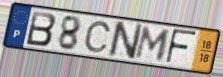8: (57, 14, 84, 52)
B: (25, 9, 58, 48)
C: (83, 20, 113, 54)
F: (164, 27, 199, 66)
M: (133, 25, 173, 63)
N: (107, 20, 145, 61)
